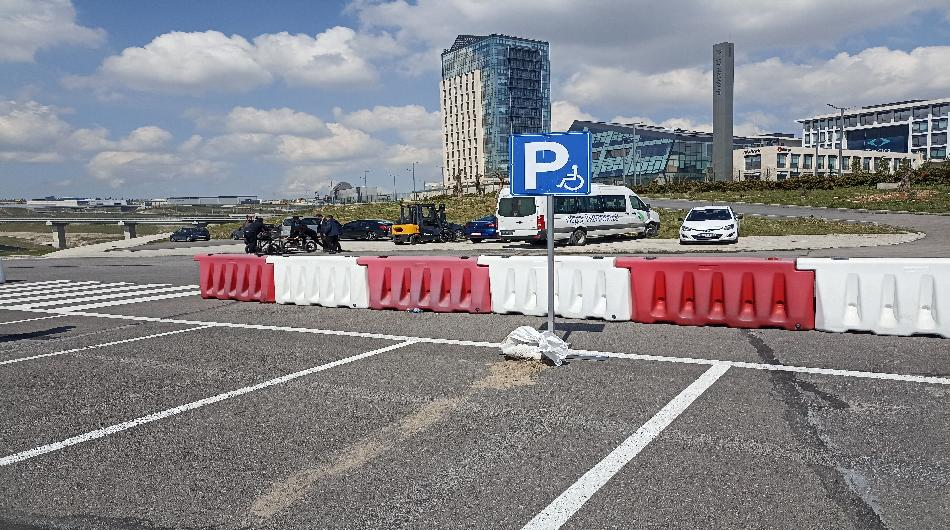engelli_park: (507, 127, 596, 195)
